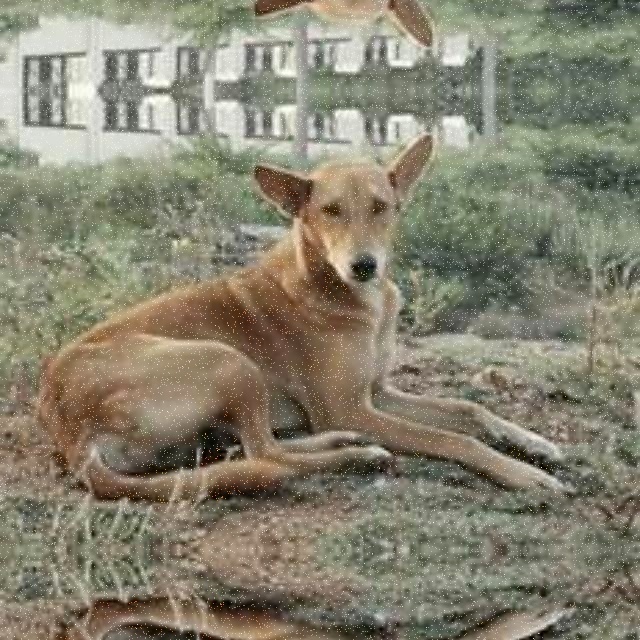dog: (29, 142, 565, 534), (29, 565, 565, 640), (29, 0, 565, 38)
